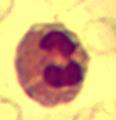eosi: (13, 19, 91, 107)
